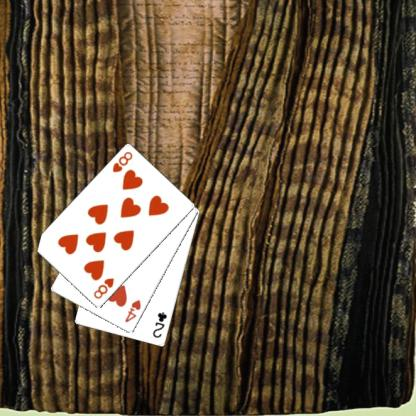2C: (151, 310, 168, 340)
4H: (122, 297, 142, 324)
8H: (109, 149, 134, 174), (90, 276, 116, 300)
